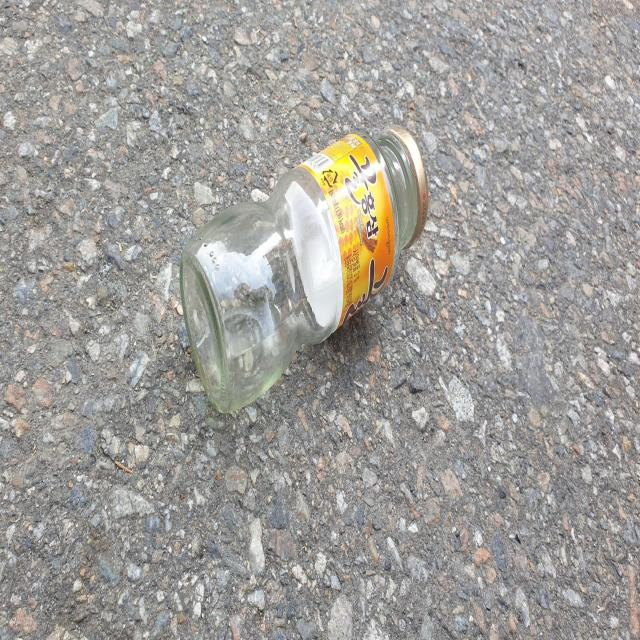glass: (180, 125, 429, 412)
